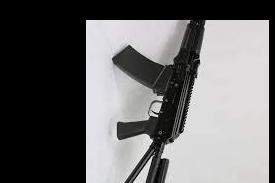larga: (112, 20, 207, 183)
